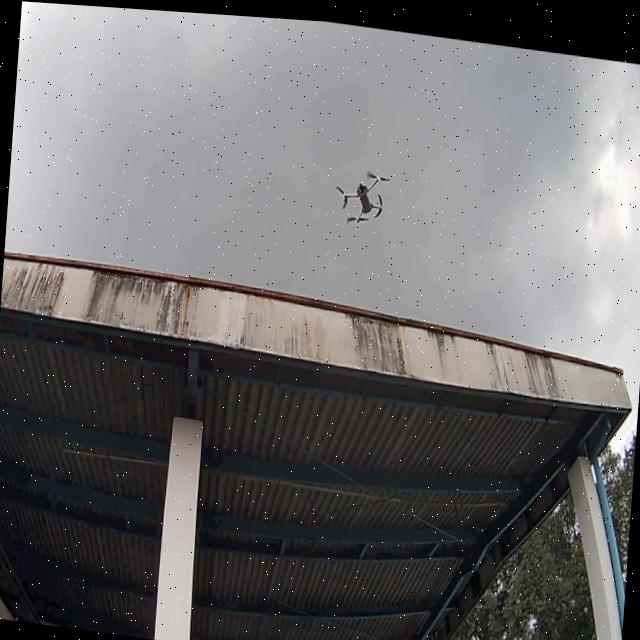drone: (332, 160, 390, 223)
